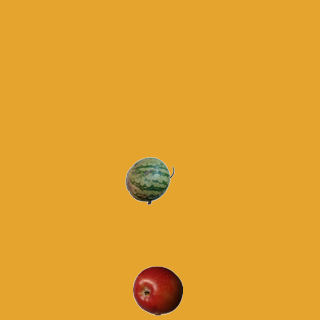Apple Braeburn: (132, 265, 182, 315)
Watermelon: (124, 155, 174, 205)
